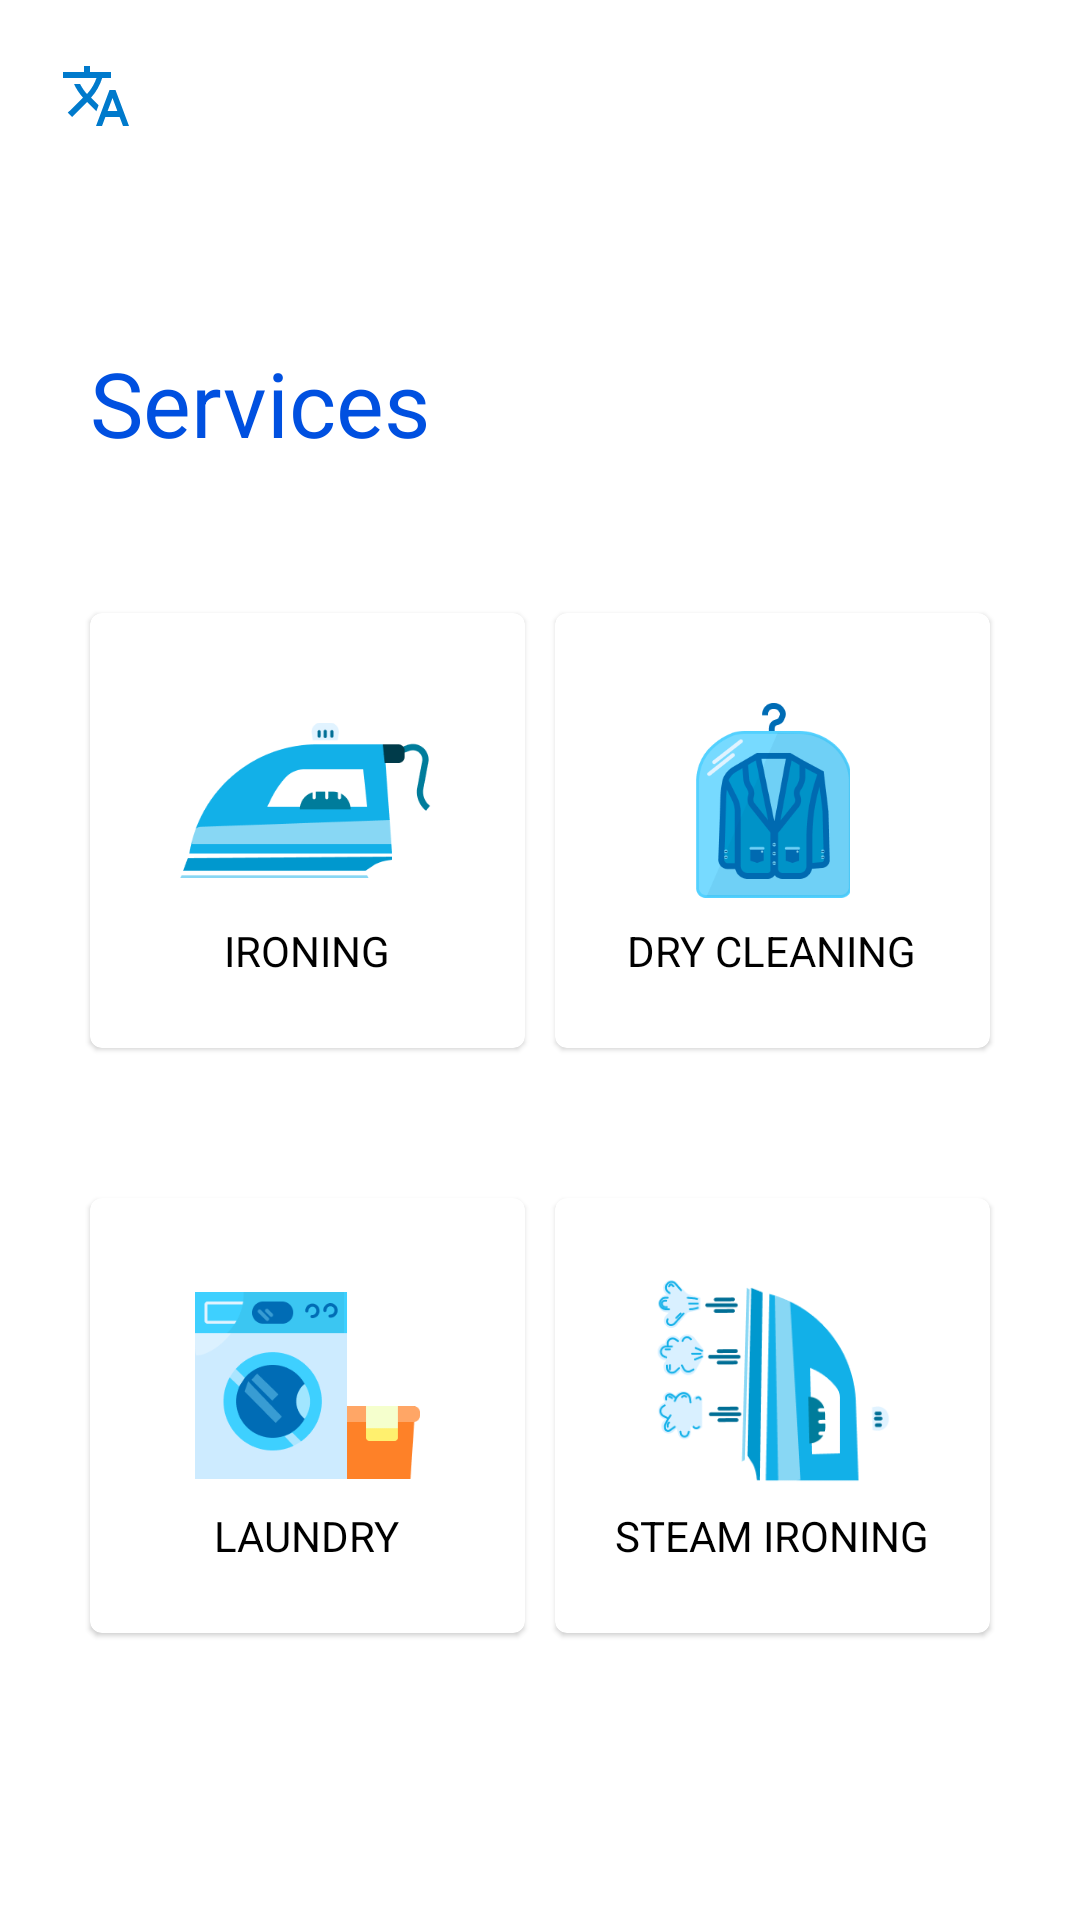

Icons on this 1080 x 1920 Android screen, each with its box as (x1, y1, x2, y2):
translate: (63, 66, 129, 126)
